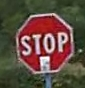stop: (12, 12, 75, 74)
